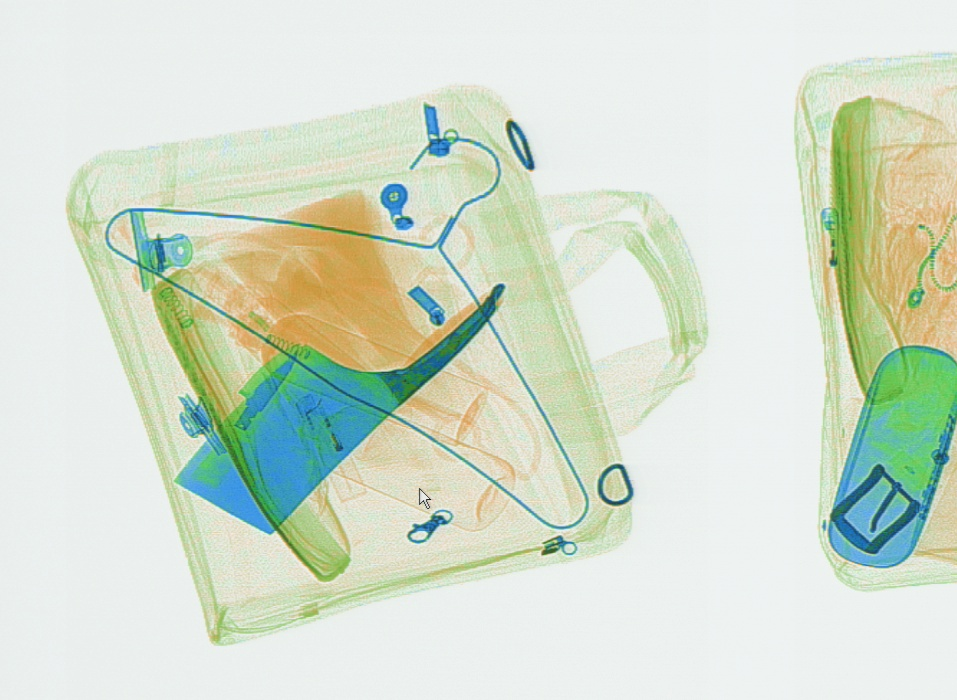knife: (170, 280, 507, 536), (193, 343, 300, 491)
lighter: (293, 392, 364, 504), (816, 203, 851, 314)
